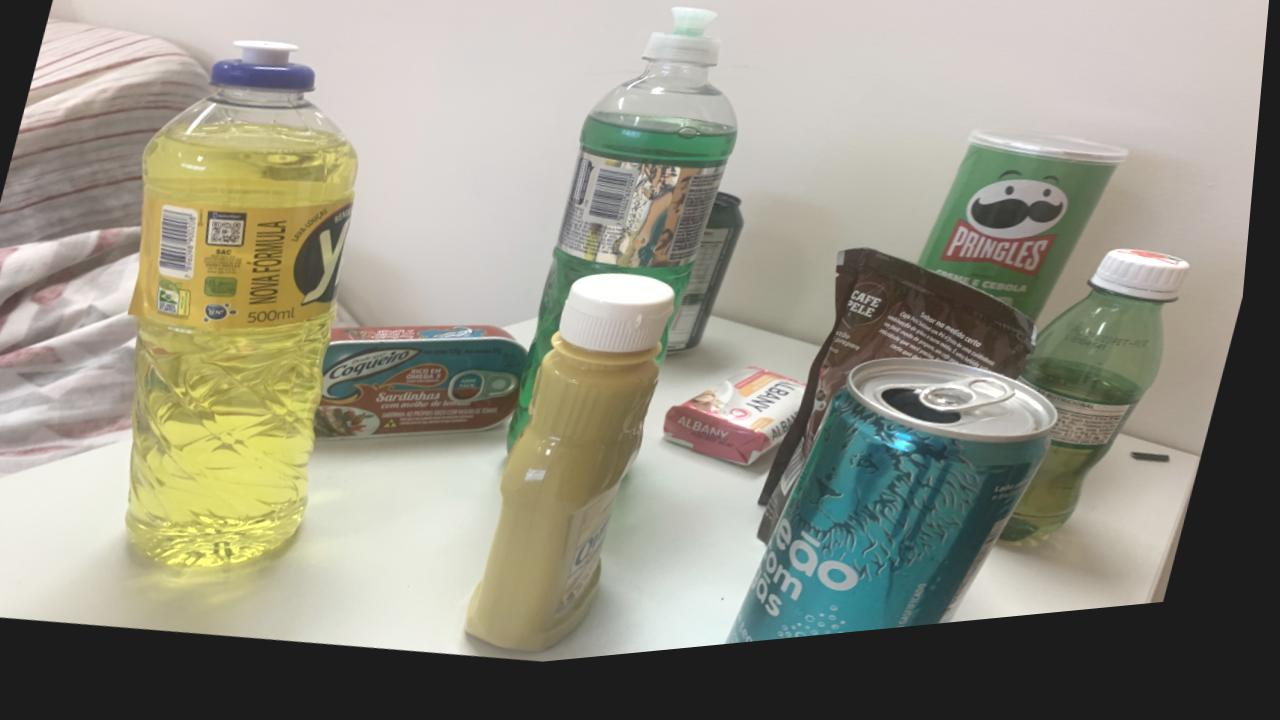Coffee-Pantry_Items: (768, 265, 1044, 558)
Detergent-Cleanup_Items: (135, 46, 361, 571), (516, 23, 741, 455)
Guarana-Drinks: (1013, 272, 1196, 565)
Guarana_Can-Drinks: (675, 208, 749, 366)
Mustard-Pantry_Items: (478, 286, 682, 663)
Pringles-Snacks: (924, 149, 1134, 342)
Soap-Cleanup_Items: (672, 382, 813, 481)
Tea-Drinks: (737, 376, 1067, 660)
Tuna_Can-Pantry_Items: (322, 335, 535, 447)
